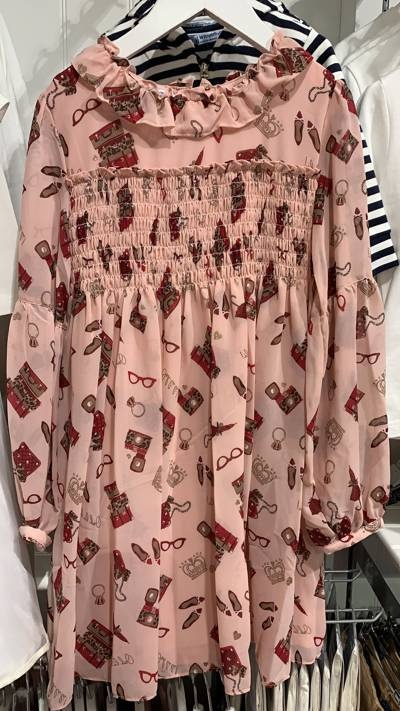Dress: (20, 35, 390, 688)
